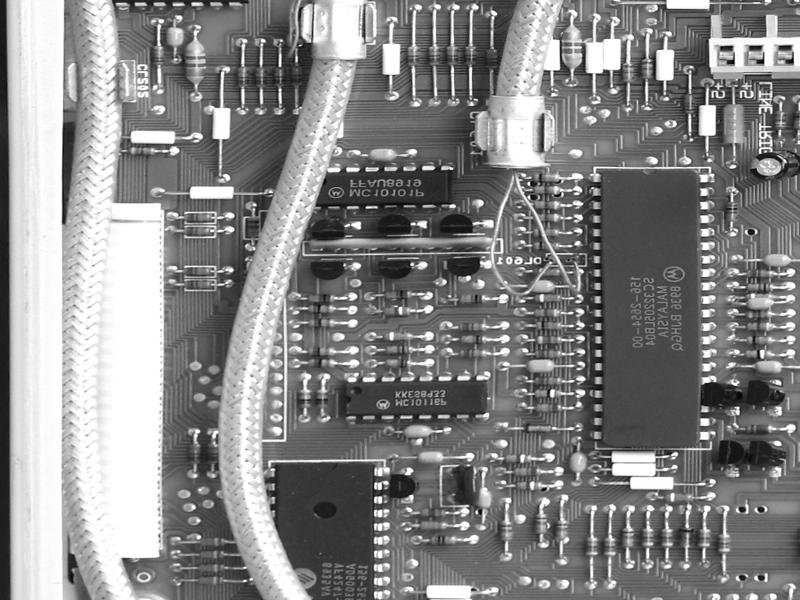Capacitor: (749, 148, 800, 181)
Diode: (682, 86, 699, 124), (678, 522, 697, 554), (520, 421, 559, 436)
Resistor: (559, 19, 584, 79), (183, 37, 208, 88), (481, 38, 501, 77), (552, 512, 571, 548), (289, 58, 307, 94), (509, 478, 552, 493), (529, 386, 571, 401), (461, 39, 479, 73), (715, 527, 734, 559), (739, 421, 779, 436), (619, 521, 636, 556), (271, 61, 289, 94), (530, 511, 551, 539), (621, 54, 636, 93), (445, 39, 462, 73), (305, 344, 343, 359), (497, 516, 516, 546), (304, 291, 337, 308), (426, 533, 463, 548), (527, 198, 564, 213), (149, 40, 167, 70), (313, 383, 331, 413), (531, 401, 567, 416), (639, 53, 654, 89), (531, 266, 567, 281), (379, 287, 417, 301), (380, 305, 418, 319), (381, 356, 419, 370), (456, 347, 494, 361), (532, 334, 570, 348), (739, 347, 777, 361), (455, 319, 490, 334), (377, 329, 417, 342), (192, 575, 229, 589), (417, 504, 449, 520), (658, 521, 674, 553), (695, 521, 712, 551), (529, 186, 568, 199), (304, 317, 340, 331), (527, 307, 569, 319), (722, 197, 740, 225), (527, 213, 565, 226), (531, 375, 569, 388), (662, 491, 700, 504), (526, 171, 567, 183), (740, 281, 781, 293), (194, 549, 229, 563), (527, 228, 564, 241), (379, 344, 419, 356), (296, 385, 313, 413), (502, 452, 536, 466), (193, 563, 229, 576), (529, 293, 568, 305), (456, 293, 489, 307), (182, 211, 217, 224), (182, 224, 217, 237), (254, 63, 269, 93), (582, 534, 600, 559), (186, 440, 202, 468), (640, 523, 656, 551), (742, 321, 779, 333), (531, 348, 571, 359), (235, 61, 249, 92), (182, 279, 218, 291), (205, 441, 221, 468), (416, 521, 452, 533), (601, 534, 617, 561), (741, 334, 777, 346), (772, 104, 788, 131), (124, 146, 159, 158), (457, 334, 492, 346), (509, 466, 544, 478), (427, 41, 442, 69), (303, 359, 341, 370), (531, 321, 569, 332), (741, 268, 782, 278), (303, 304, 337, 316), (196, 535, 227, 548), (741, 309, 781, 319), (181, 266, 217, 277), (741, 291, 780, 301), (406, 43, 421, 68), (245, 215, 260, 239)
